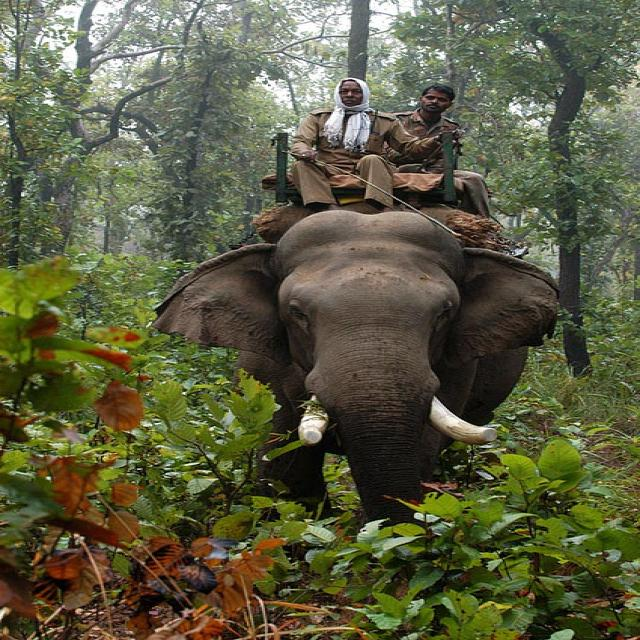Elephant: (149, 207, 560, 537)
person: (288, 77, 444, 213), (388, 83, 491, 220)
